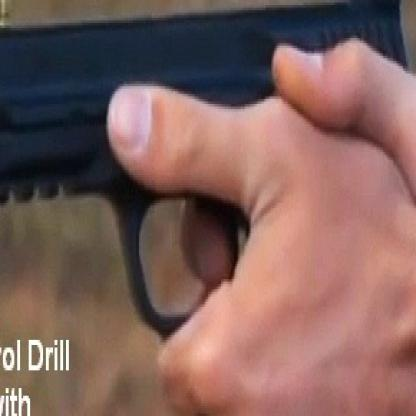gun: (0, 0, 415, 373)
